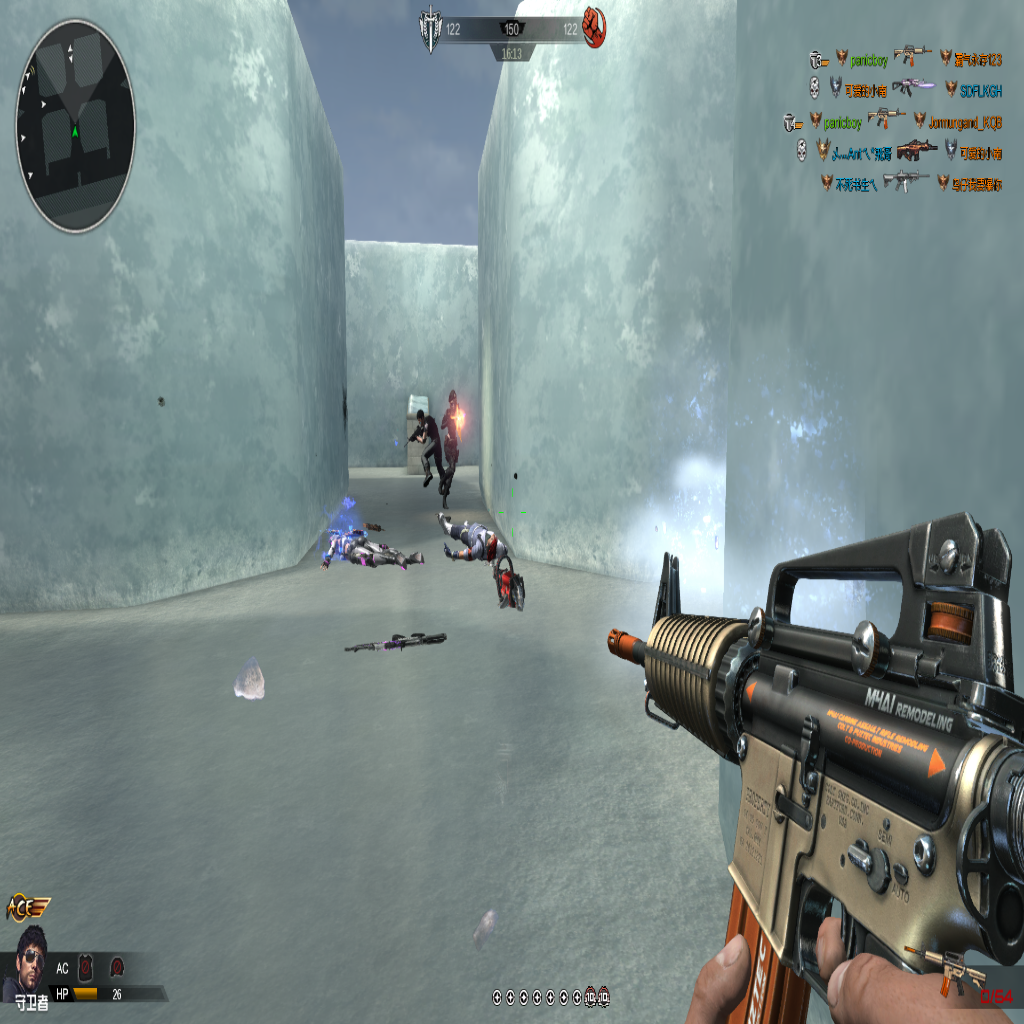ct: (409, 404, 445, 492), (440, 391, 466, 497)
